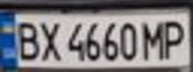0: (118, 19, 142, 61)
4: (63, 18, 87, 62)
6: (81, 18, 103, 62), (100, 18, 121, 62)
B: (9, 17, 42, 62)
M: (139, 17, 169, 61)
P: (157, 16, 190, 60)
X: (33, 17, 63, 62)
